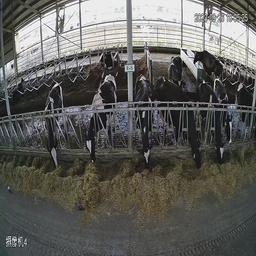cow: (155, 75, 202, 171), (84, 73, 118, 170), (195, 78, 225, 166), (134, 74, 154, 173), (45, 82, 64, 169), (213, 78, 231, 148), (193, 49, 223, 91), (167, 55, 184, 92), (100, 52, 119, 68)
